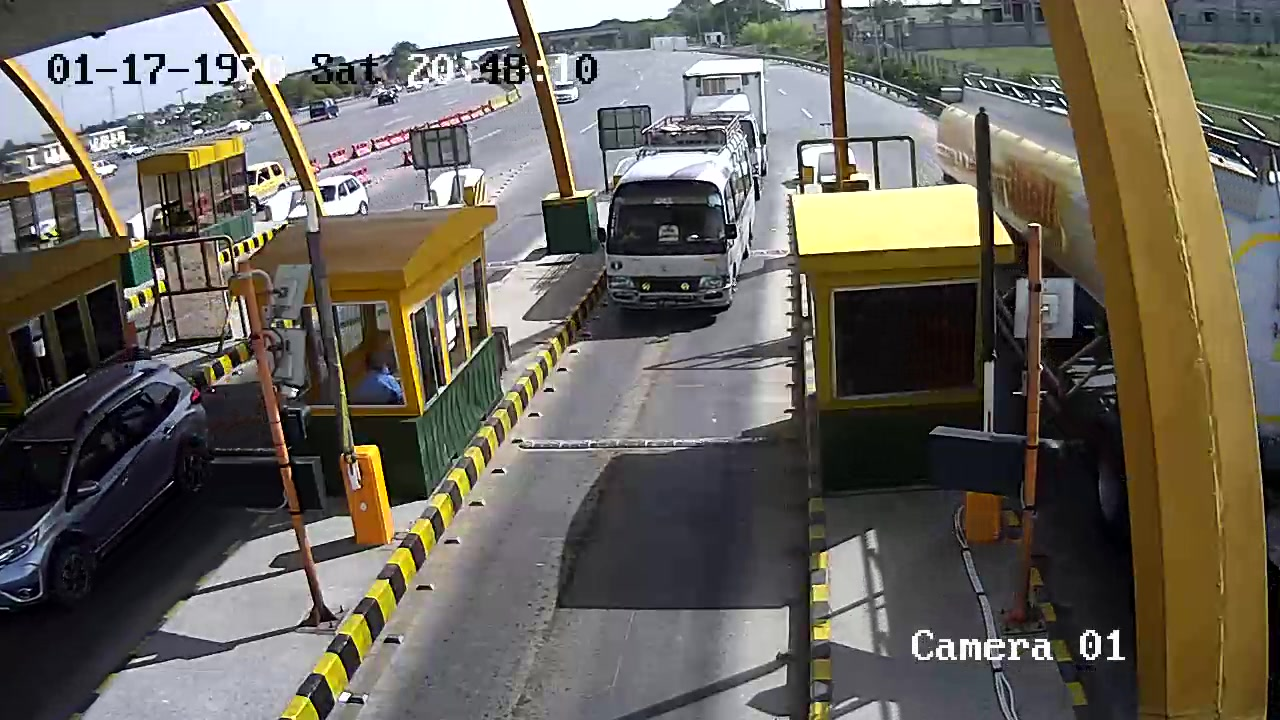F3: (598, 109, 764, 324)
